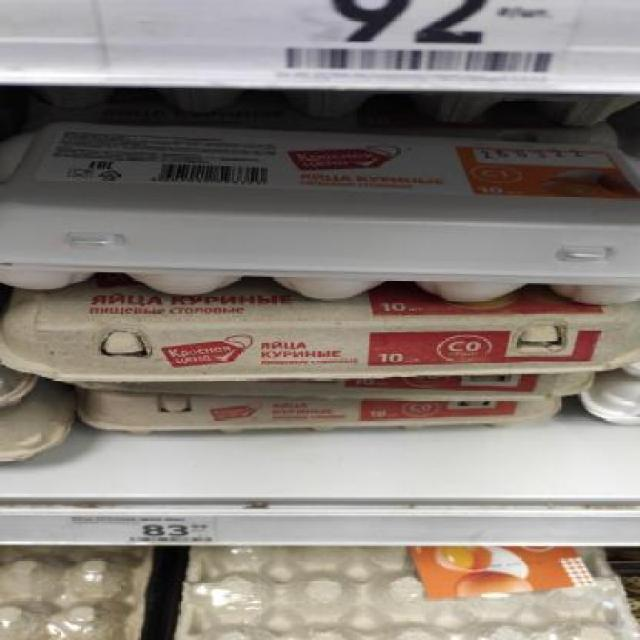Egg: (1, 118, 640, 305), (1, 288, 640, 381)
